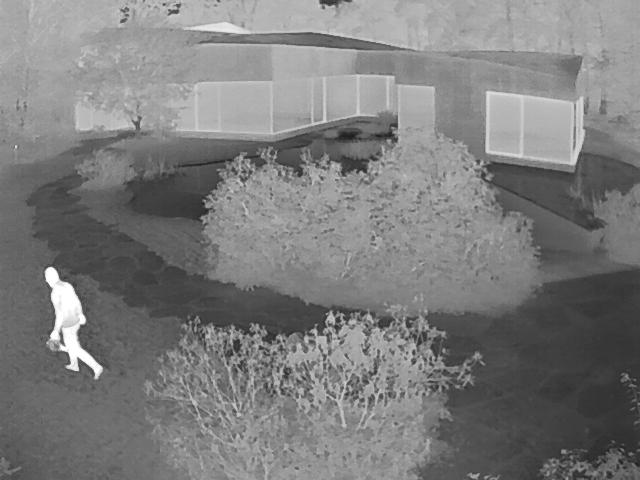person: (45, 266, 106, 382)
